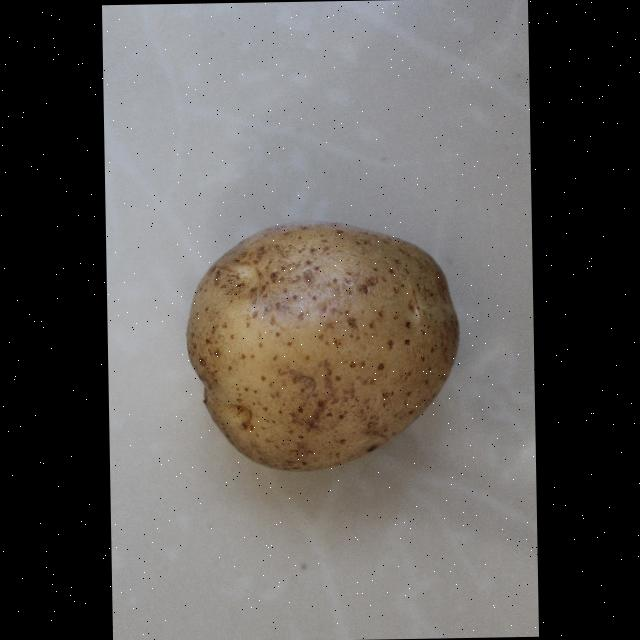Diseased-fungal potato: (180, 210, 465, 474)
